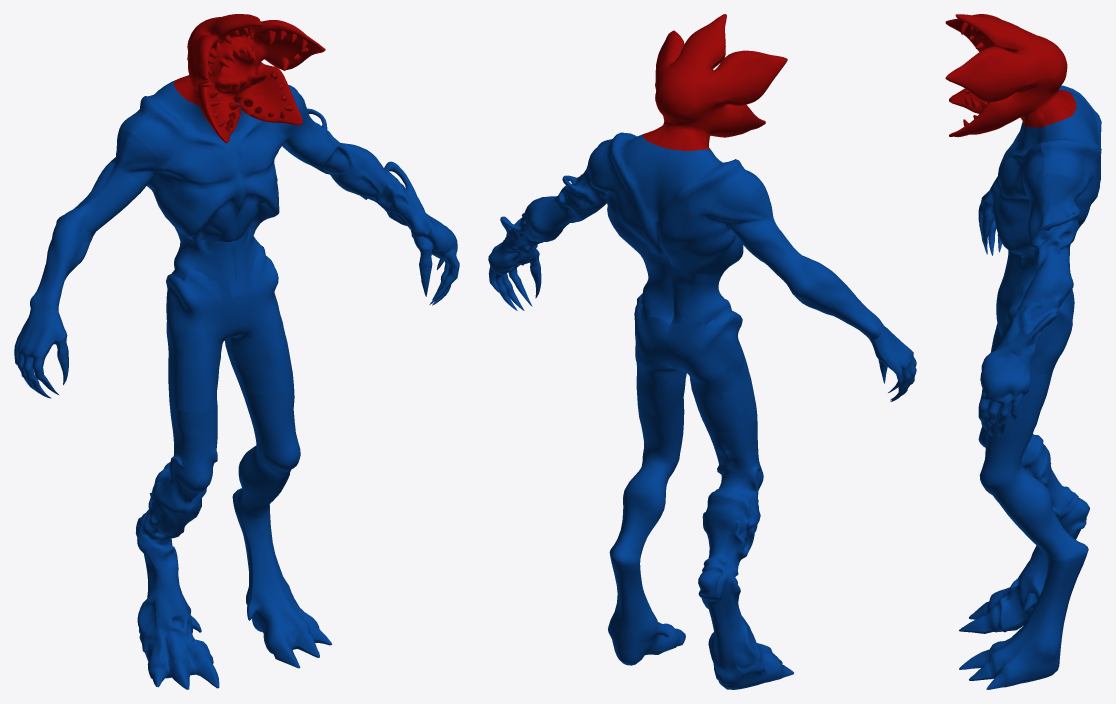
Rendered from Demo.fbx.
3 views of the same model, side by side, from view 1: azimuth 30°, elevation 25°; view 2: azimuth 150°, elevation 25°; view 3: azimuth 270°, elevation 25° (orthographic). The views are drawn at different scales.
Parts seen in each view (by area): view 1: Demogorgan; view 2: Demogorgan; view 3: Demogorgan.
Boxes of the visible parts, x1,y1,x2,y2 form: Demogorgan: (14,14,459,689); Demogorgan: (488,14,916,689); Demogorgan: (945,14,1101,689).
Bounding box in the file's own units: 81.92 × 118 × 26.26.
